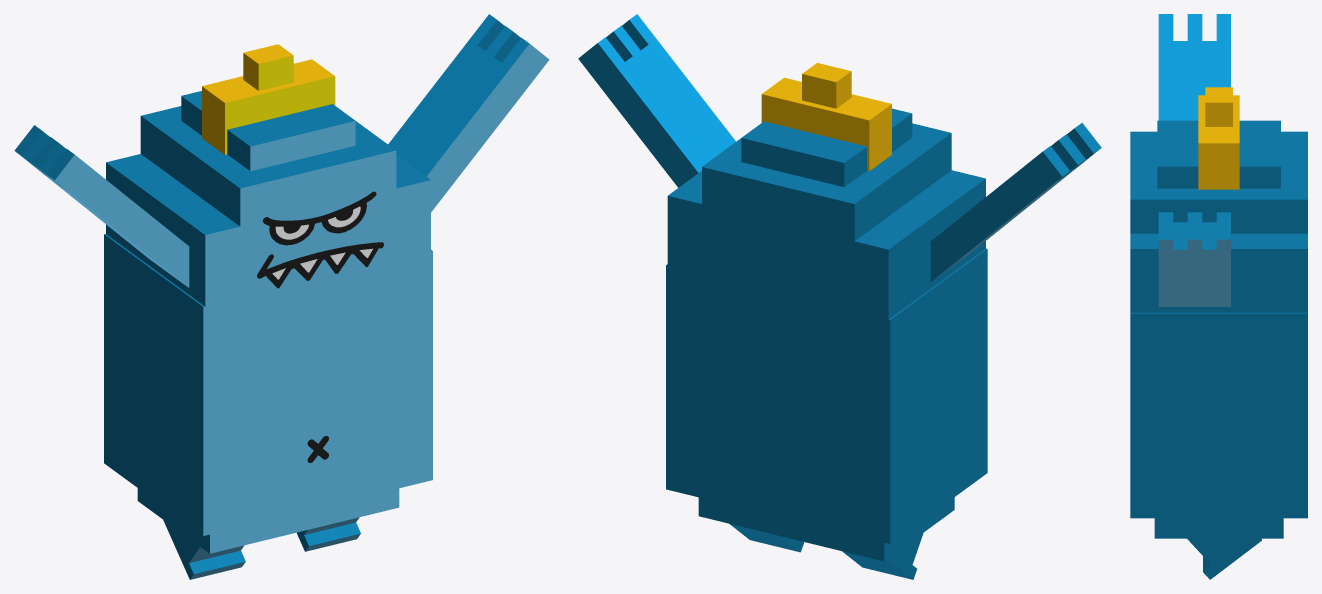
File: Ch_BLUEMON@Up.FBX
The picture shows the model from 3 angles, left to right: view 1: azimuth 30°, elevation 25°; view 2: azimuth 150°, elevation 25°; view 3: azimuth 270°, elevation 25°; orthographic projection. The views are drawn at different scales.
Visible parts, largest first — view 1: Ch_BLUEMON, Ch_BLUEMON_Head, Ch_BLUEMON_Hand_R, Ch_BLUEMON_Hand_L, Ch_BLUEMON_Eye_01, Ch_BLUEMON_Leg_L, Ch_BLUEMON_Leg_R; view 2: Ch_BLUEMON, Ch_BLUEMON_Head, Ch_BLUEMON_Hand_R, Ch_BLUEMON_Hand_L, Ch_BLUEMON_Leg_L, Ch_BLUEMON_Leg_R; view 3: Ch_BLUEMON, Ch_BLUEMON_Head, Ch_BLUEMON_Hand_R, Ch_BLUEMON_Hand_L, Ch_BLUEMON_Leg_R.
Boxes of the visible parts, bbox=[...] form: Ch_BLUEMON: bbox=[104, 234, 432, 553]; Ch_BLUEMON_Head: bbox=[106, 44, 430, 306]; Ch_BLUEMON_Hand_R: bbox=[388, 14, 549, 212]; Ch_BLUEMON_Hand_L: bbox=[14, 125, 189, 287]; Ch_BLUEMON_Eye_01: bbox=[263, 191, 376, 245]; Ch_BLUEMON_Leg_L: bbox=[163, 520, 245, 579]; Ch_BLUEMON_Leg_R: bbox=[297, 517, 360, 551]; Ch_BLUEMON: bbox=[666, 248, 987, 561]; Ch_BLUEMON_Head: bbox=[667, 63, 985, 319]; Ch_BLUEMON_Hand_R: bbox=[578, 14, 735, 187]; Ch_BLUEMON_Hand_L: bbox=[930, 123, 1101, 281]; Ch_BLUEMON_Leg_L: bbox=[842, 533, 923, 579]; Ch_BLUEMON_Leg_R: bbox=[730, 524, 804, 552]; Ch_BLUEMON: bbox=[1130, 312, 1307, 538]; Ch_BLUEMON_Head: bbox=[1130, 87, 1307, 312]; Ch_BLUEMON_Hand_R: bbox=[1158, 212, 1230, 306]; Ch_BLUEMON_Hand_L: bbox=[1158, 14, 1230, 120]; Ch_BLUEMON_Leg_R: bbox=[1187, 538, 1261, 579].
Bounding box in the file's own units: 14.48 × 14.04 × 5.04.
